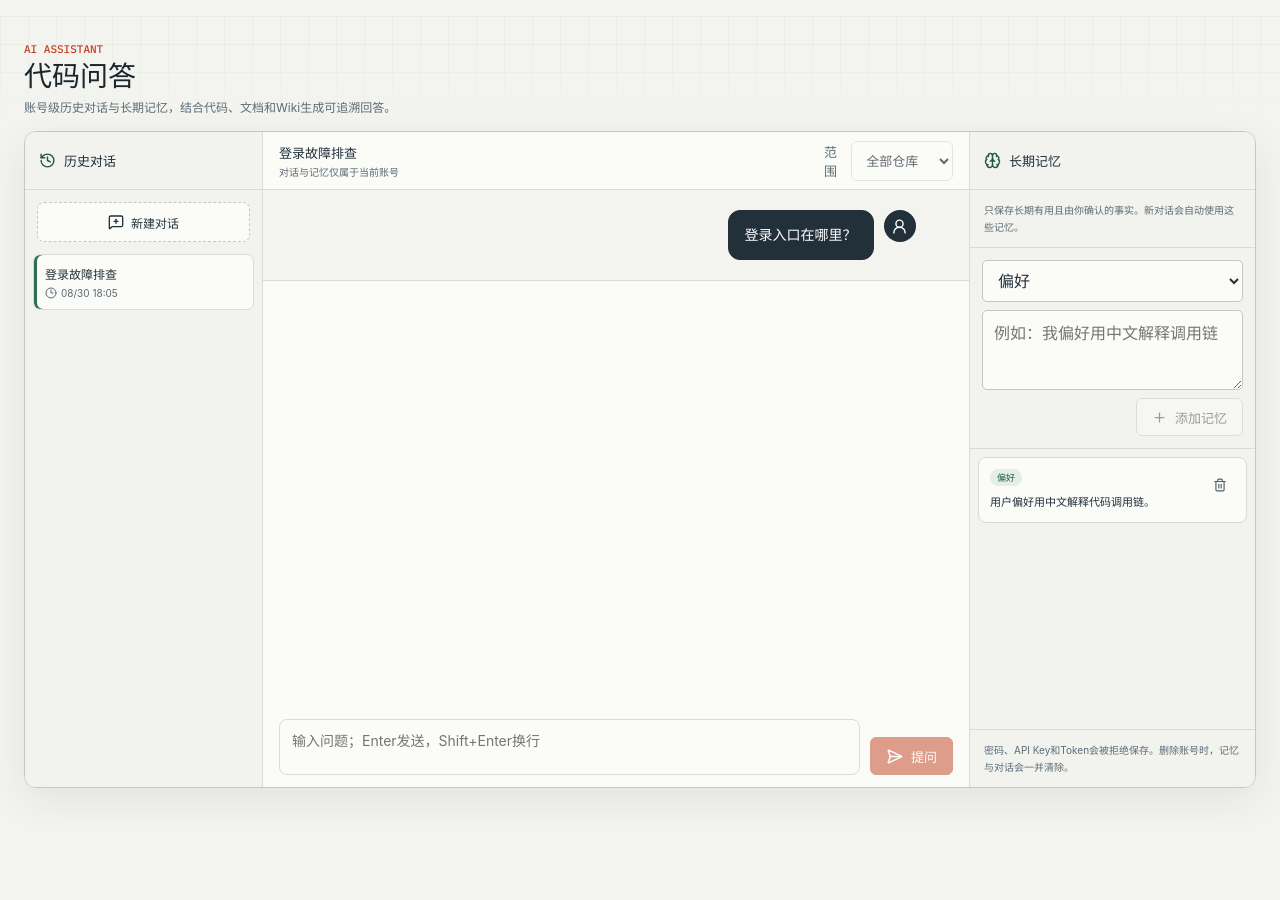
ChatView account workspace › creates a persistent conversation before sending the first message
Click the button with class "chat-new-session". click: (144, 222)
box: [37,202,250,242]
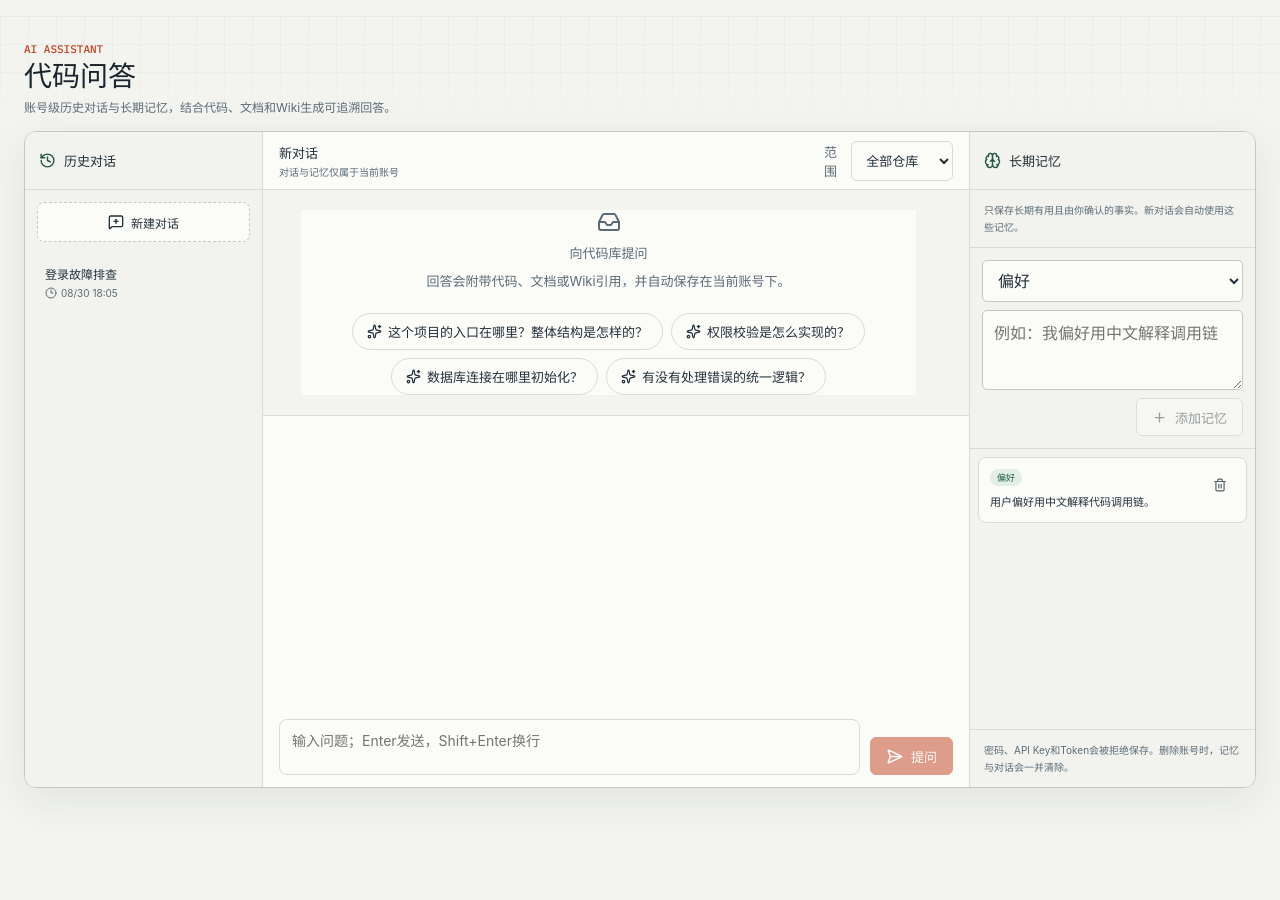
Type "分析登录流程" into the text box named "提问内容". click: (570, 747)
box: [279,719,860,775]
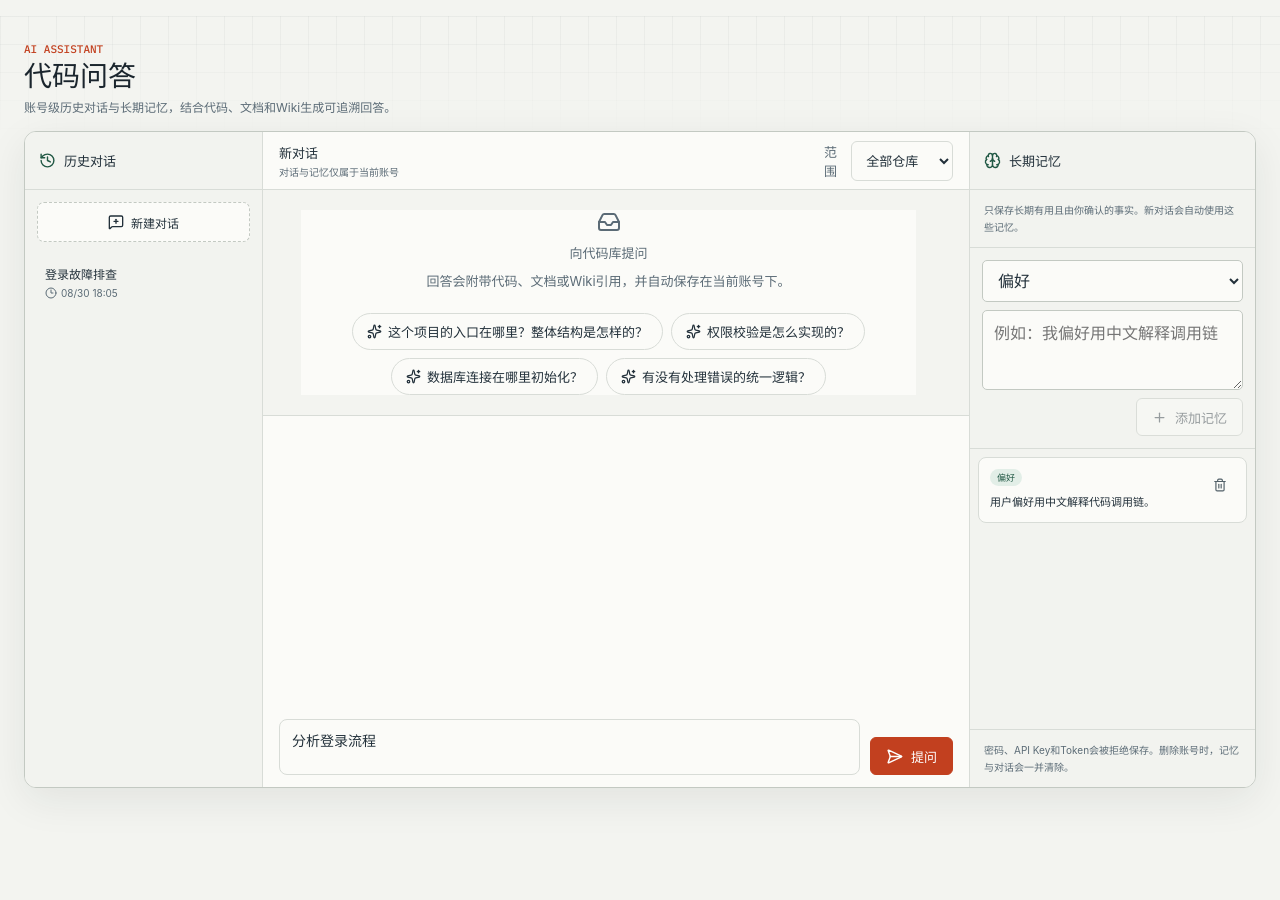
Submit the form with class "chat-composer", box [263,415,969,787]
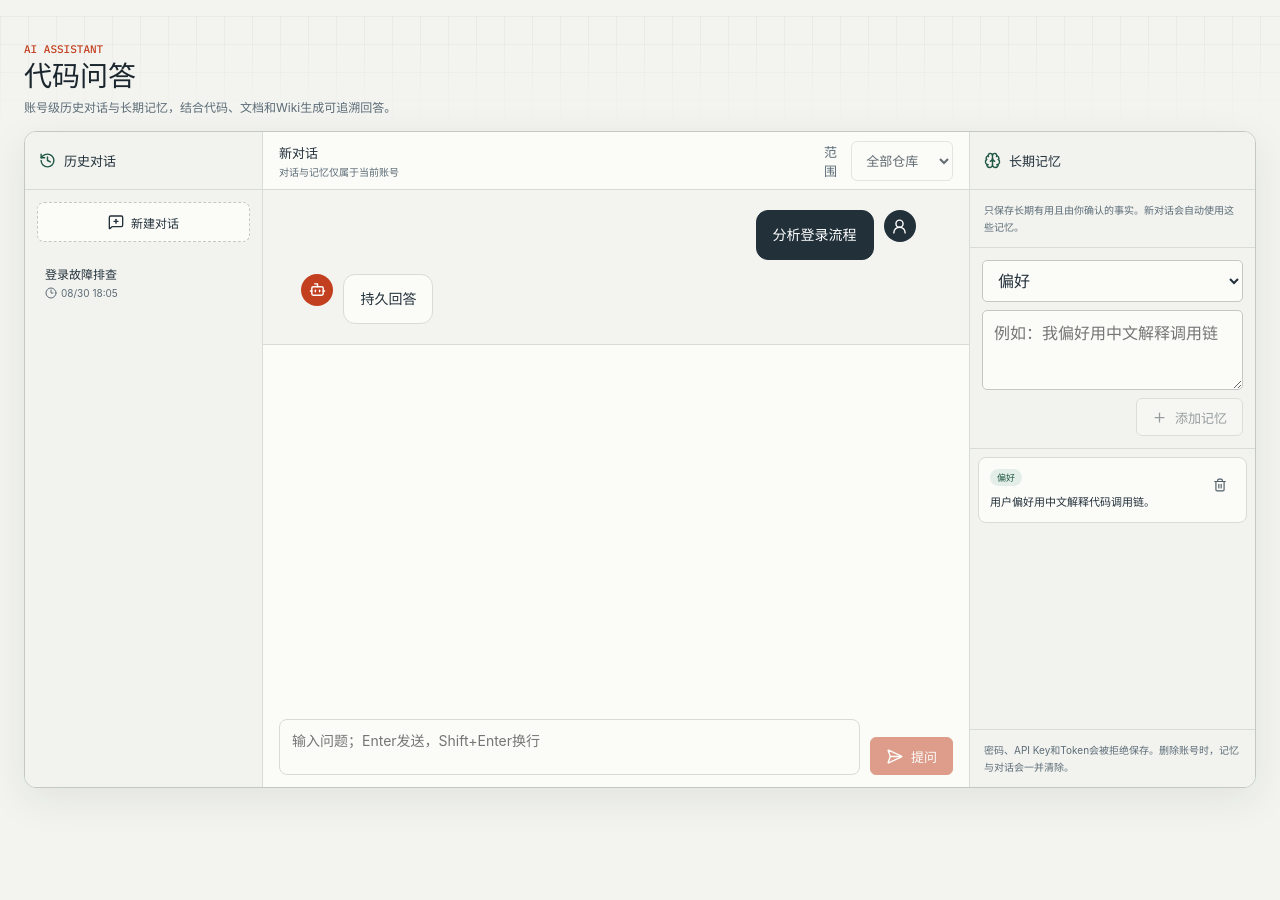
Expected: the element with class "chat-thread" shows "持久回答", [360,290,416,307]
